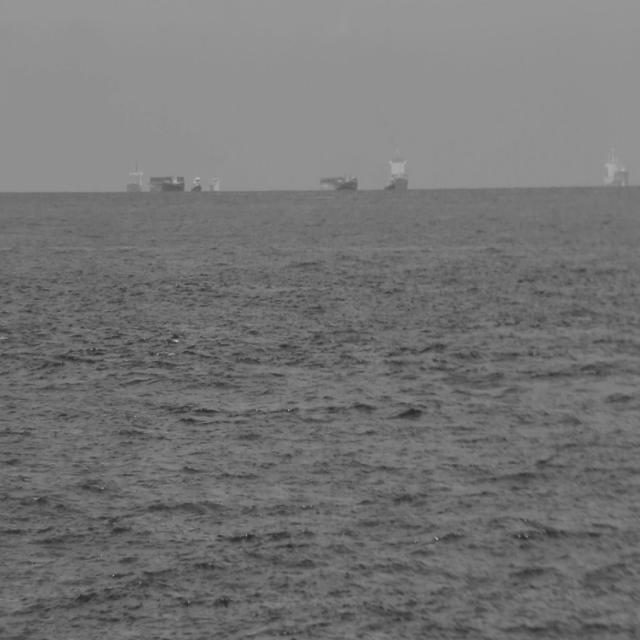ship: (125, 158, 186, 194), (382, 144, 410, 192), (602, 145, 629, 190), (318, 170, 358, 192), (190, 172, 203, 193)
